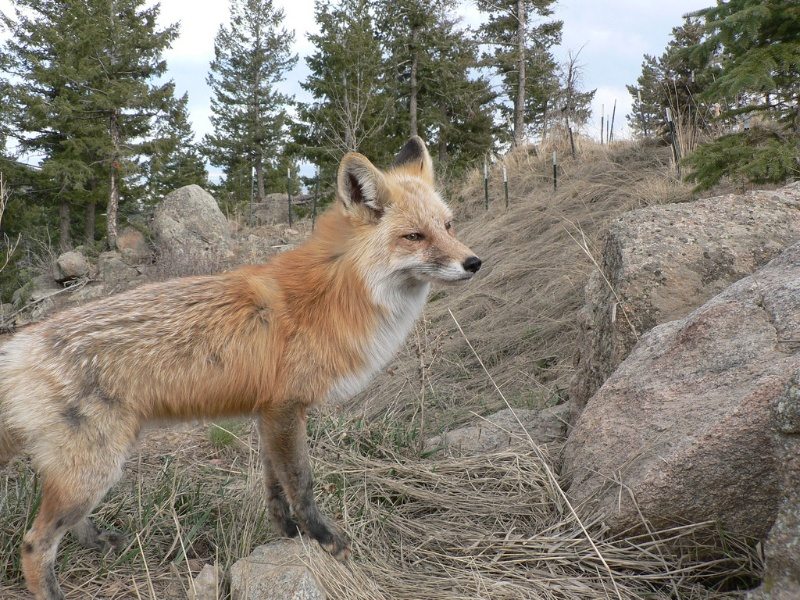fox: (16, 130, 482, 596)
